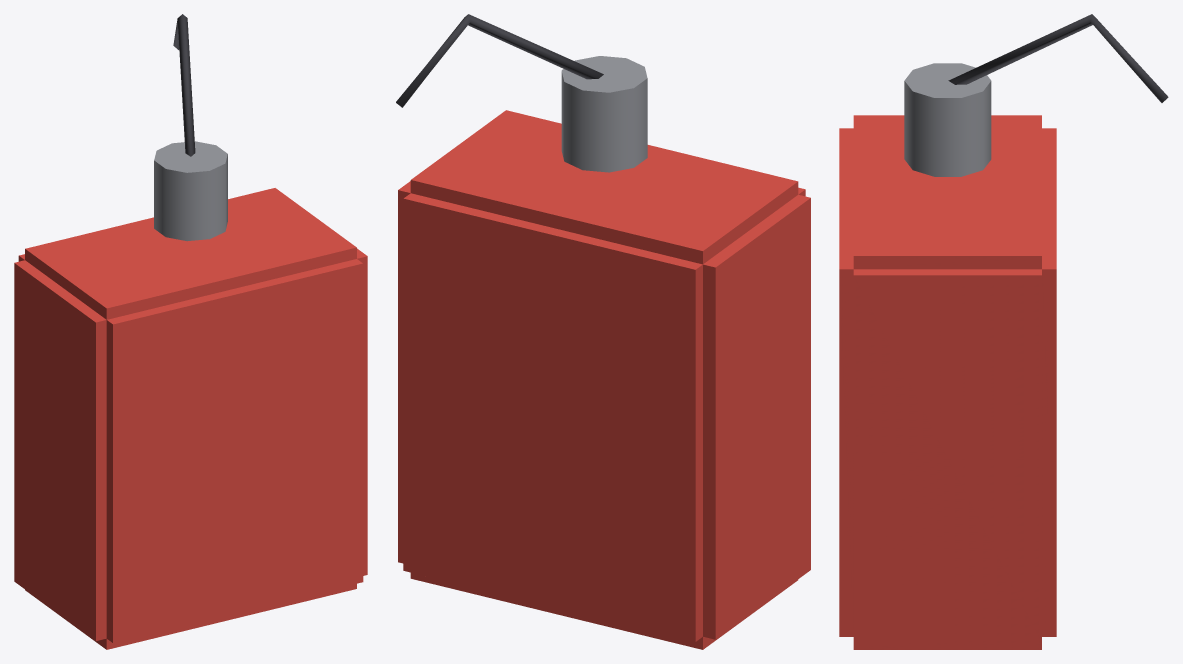
File: fuse_box.glb
3 renders of one model, left to right at view 1: azimuth 30°, elevation 25°; view 2: azimuth 150°, elevation 25°; view 3: azimuth 270°, elevation 25°, orthographic. The views are drawn at different scales.
Parts seen in each view (by area): view 1: fuse_box; view 2: fuse_box; view 3: fuse_box.
Part boxes in pixels (x1,y1,x2,y2): fuse_box: [14, 14, 367, 649]; fuse_box: [396, 14, 810, 649]; fuse_box: [839, 14, 1168, 649].
Bounding box in the file's own units: 0.5 × 0.9079 × 0.4548.
